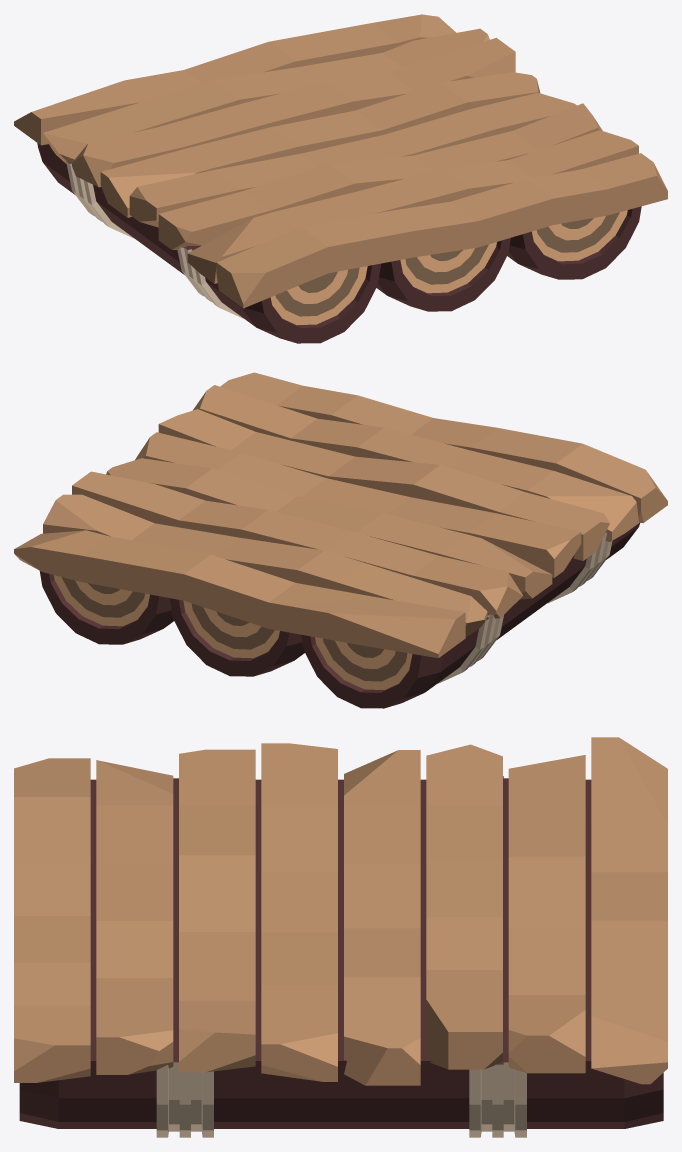
The model's file is RaftWithLogs.fbx.
3 views of the same model, one above another, from view 1: azimuth 30°, elevation 25°; view 2: azimuth 150°, elevation 25°; view 3: azimuth 270°, elevation 25° (orthographic). The views are drawn at different scales.
Parts seen in each view (by area): view 1: WoodRaft, Raft; view 2: WoodRaft, Raft; view 3: WoodRaft, Raft.
Boxes of the visible parts, x1,y1,x2,y2 form: WoodRaft: (14,14,667,308); Raft: (37,143,641,343); WoodRaft: (14,372,667,658); Raft: (39,523,639,708); WoodRaft: (14,737,667,1085); Raft: (19,776,663,1137).
Size of the model in its own units: 423 by 102 by 396.
